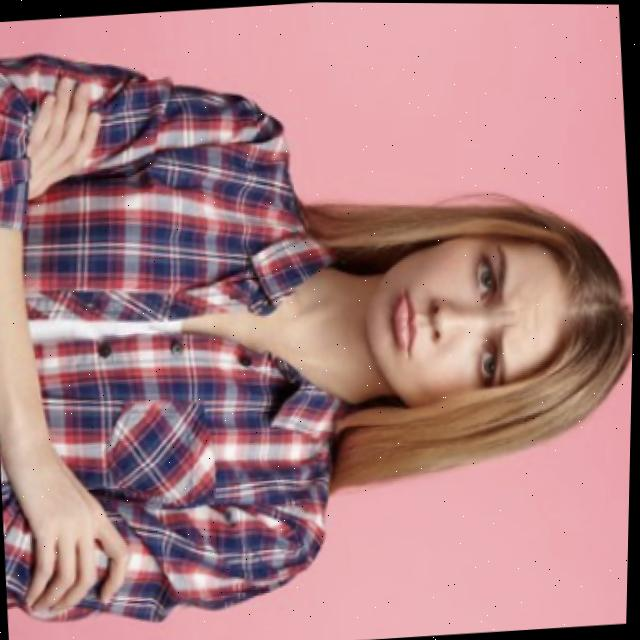sad: (389, 232, 559, 410)
